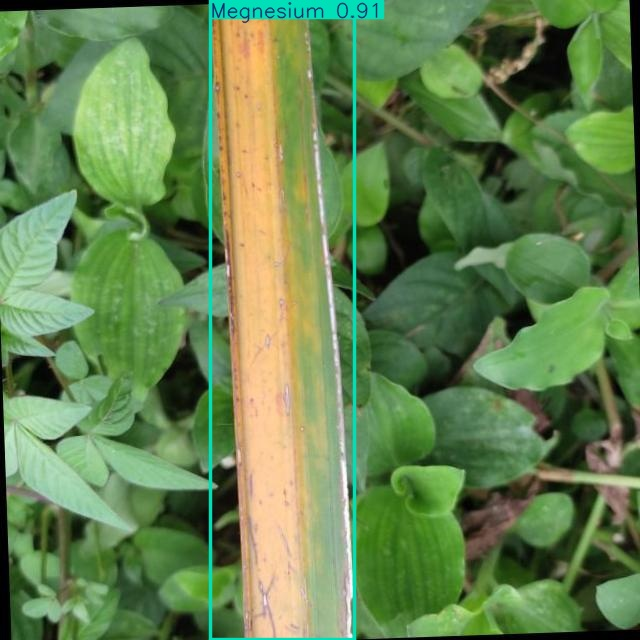Megnesium: (210, 1, 355, 639)
